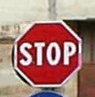stop: (11, 18, 82, 88)
